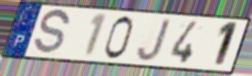0: (103, 15, 135, 60)
1: (82, 12, 109, 59), (214, 21, 239, 71)
4: (168, 20, 200, 65)
J: (136, 17, 173, 63)
S: (31, 8, 71, 57)
